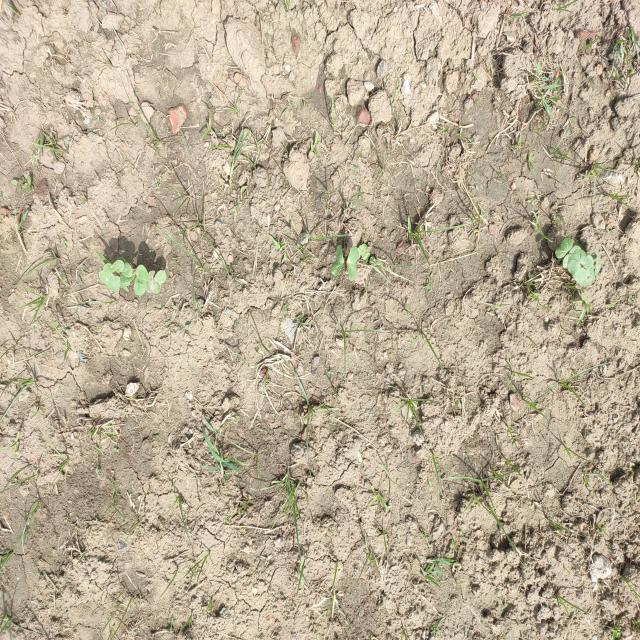seedling_s2: (567, 259, 587, 283), (99, 270, 120, 292), (562, 245, 581, 269), (346, 246, 359, 281), (573, 248, 594, 269), (134, 265, 148, 296), (330, 245, 344, 276), (555, 237, 573, 259), (578, 268, 596, 287), (118, 256, 133, 277), (153, 270, 166, 294), (103, 260, 125, 273), (146, 271, 155, 293), (120, 272, 136, 284), (358, 244, 370, 260)
